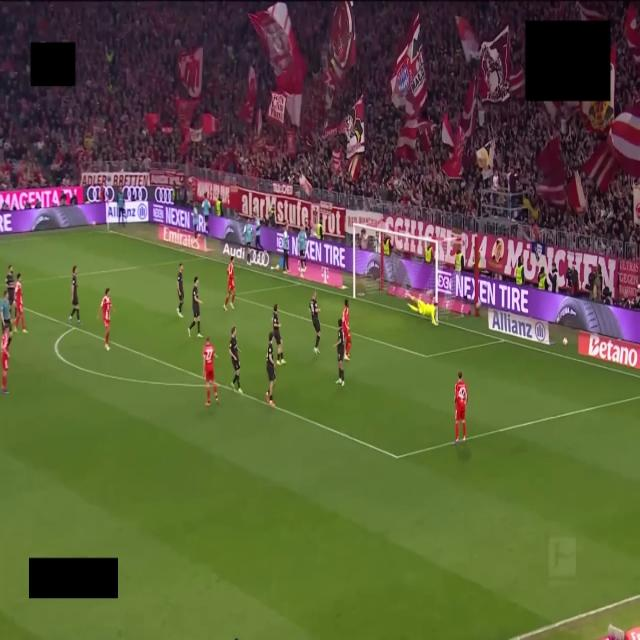player: (203, 337, 218, 406), (408, 296, 437, 326), (229, 327, 242, 393), (455, 372, 467, 443), (188, 277, 202, 337), (272, 304, 285, 364), (15, 273, 27, 333), (69, 266, 81, 325), (100, 288, 111, 351), (266, 332, 275, 407), (335, 320, 345, 385), (310, 291, 320, 354), (224, 256, 235, 311), (0, 326, 9, 393), (342, 299, 350, 360), (6, 264, 14, 317), (177, 264, 183, 318)
referee: (0, 289, 11, 343)
